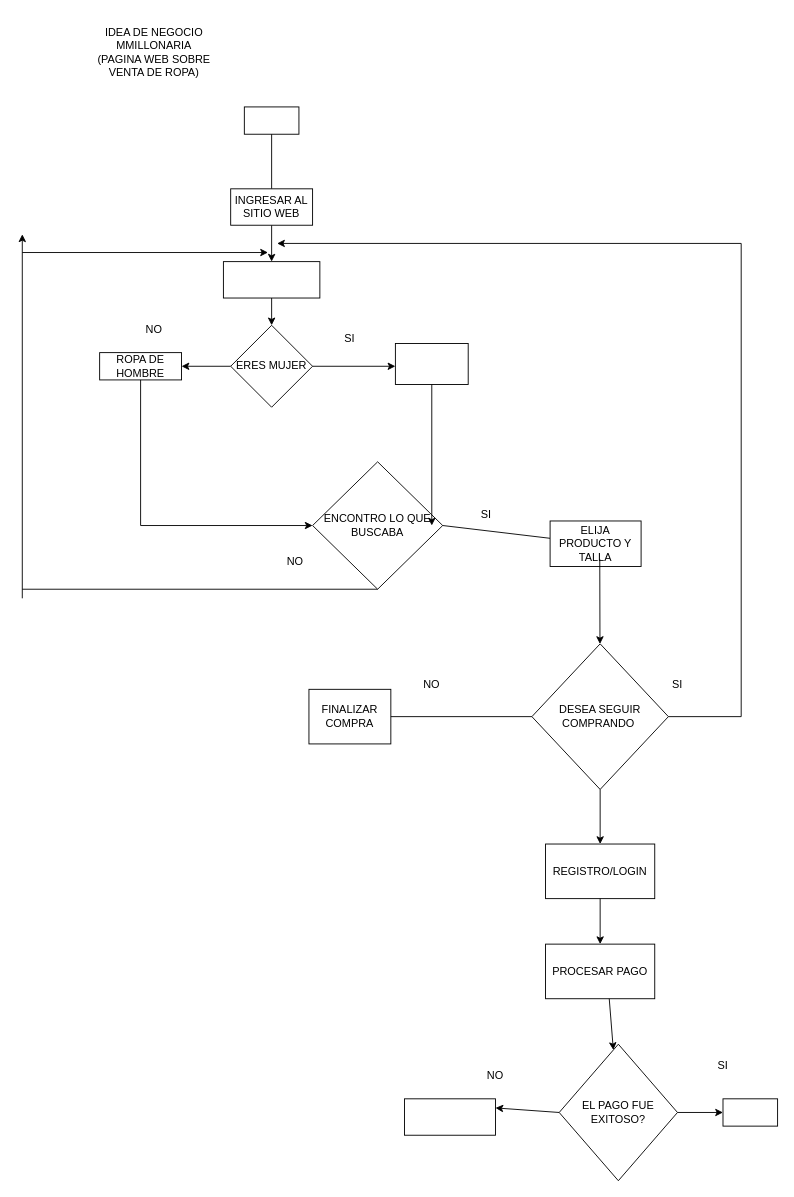
Some shapes in this 794 by 1197 pixel diagram are drawn without their labels. The shapes that lost their labels are listed below. From the top down, each one's centre as x and y in pixels, then its label:
(271,120): INCIO
(271,279): CATALOGO DE PRODUCTOS
(431,363): ROPA DE MUJER
(449,1116): REINTENTAR PAGO
(750,1112): FIN
